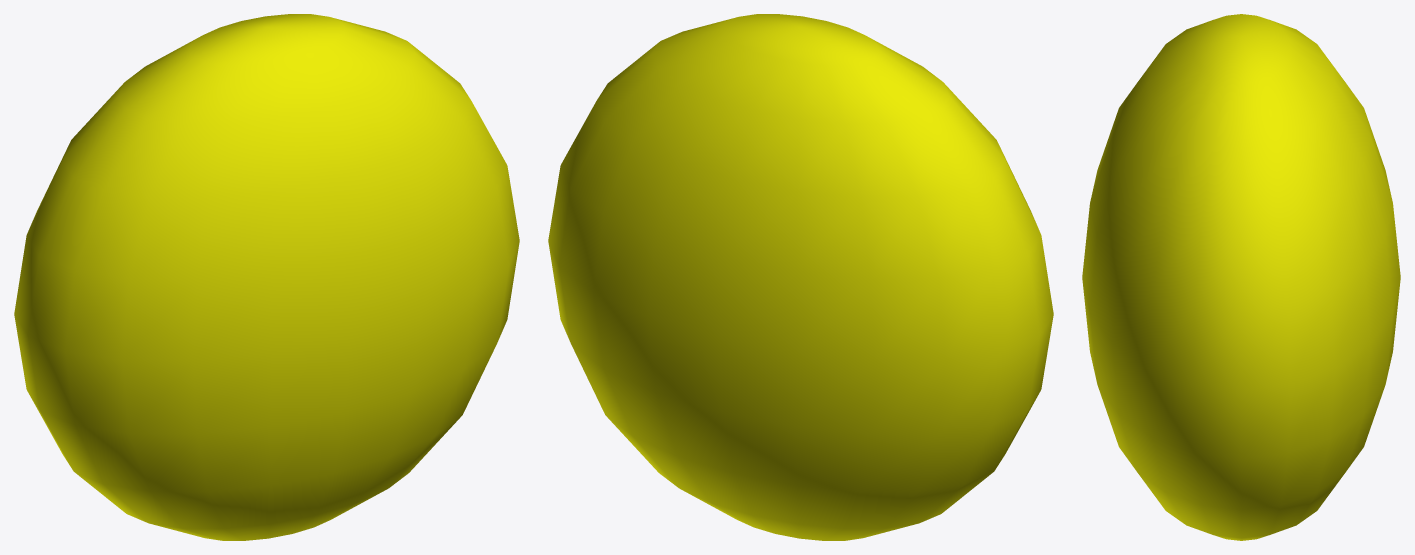
Rendered from Door_Handle_01.fbx.
3 views of the same model, side by side, from view 1: azimuth 30°, elevation 25°; view 2: azimuth 150°, elevation 25°; view 3: azimuth 270°, elevation 25° (orthographic). The views are drawn at different scales.
Parts seen in each view (by area): view 1: Door_Handle_01; view 2: Door_Handle_01; view 3: Door_Handle_01.
Part boxes in pixels (bbox=[...]): Door_Handle_01: bbox=[14, 14, 519, 540]; Door_Handle_01: bbox=[548, 14, 1053, 540]; Door_Handle_01: bbox=[1082, 14, 1400, 540].
Size of the model in its own units: 0.5 by 0.5 by 0.3.
